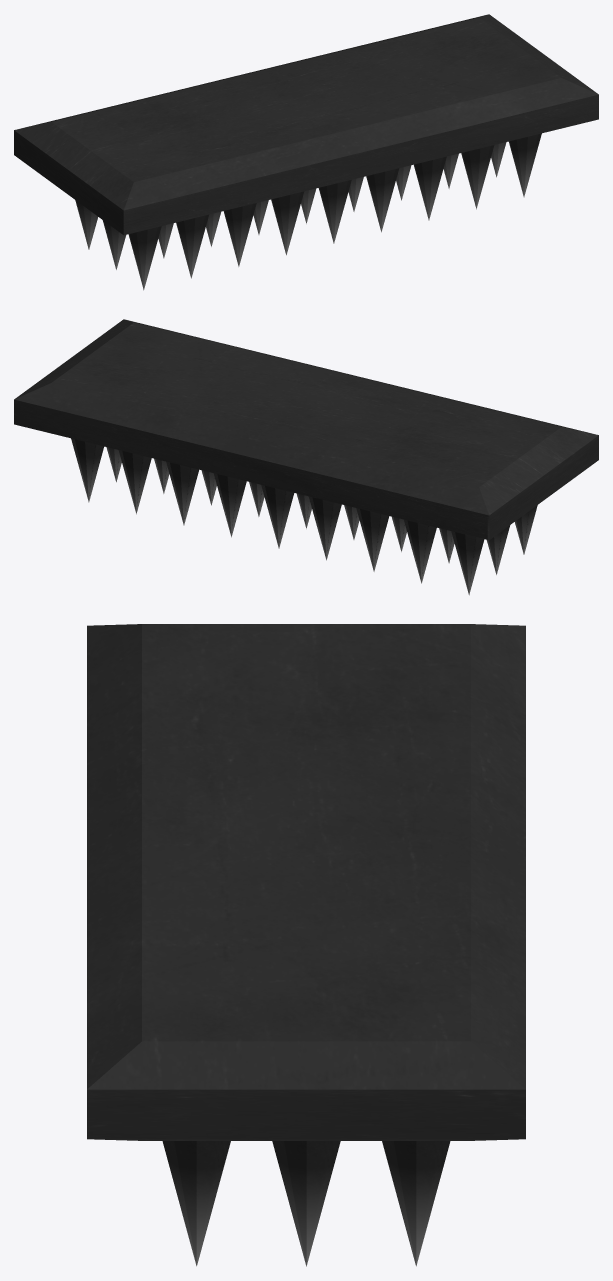
File: long_platform.fbx
3 views of the same model, one above another, from view 1: azimuth 30°, elevation 25°; view 2: azimuth 150°, elevation 25°; view 3: azimuth 270°, elevation 25° (orthographic). The views are drawn at different scales.
Parts seen in each view (by area): view 1: polySurface75; view 2: polySurface75; view 3: polySurface75.
Boxes of the visible parts, left/top/right/bottom form: polySurface75: left=14, top=14, right=598, bottom=290; polySurface75: left=14, top=319, right=598, bottom=595; polySurface75: left=87, top=624, right=525, bottom=1266.
Size of the model in its own units: 10 by 2.5 by 4.
